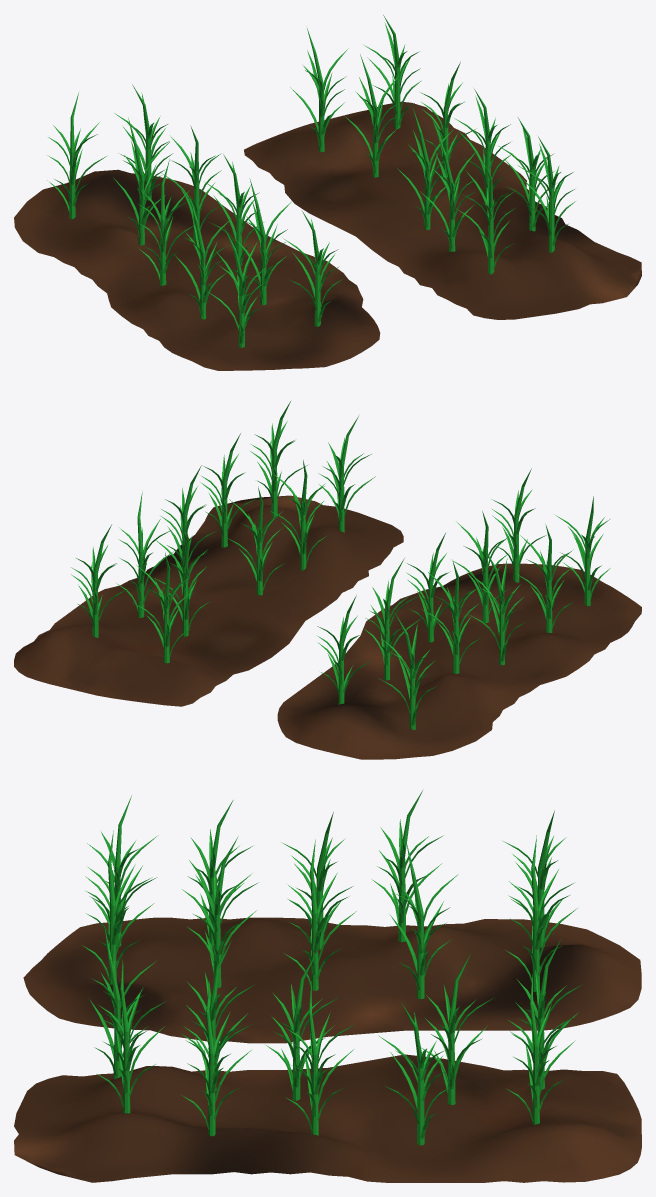
Rendered from Garlic3.fbx.
3 renders of one model, top to bottom at view 1: azimuth 30°, elevation 25°; view 2: azimuth 150°, elevation 25°; view 3: azimuth 270°, elevation 25°, orthographic. The views are drawn at different scales.
Parts seen in each view (by area): view 1: 3; view 2: 3; view 3: 3.
Boxes of the visible parts, x1=… form: 3: x1=14, y1=15, x2=641, y2=370; 3: x1=14, y1=401, x2=641, y2=759; 3: x1=14, y1=789, x2=641, y2=1182.
Size of the model in its own units: 174 by 52.79 by 175.
